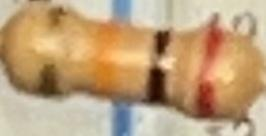Black: (146, 30, 173, 104)
Orange: (90, 23, 120, 95)
Red: (195, 29, 223, 118)
Side-Gold: (38, 7, 71, 97)
